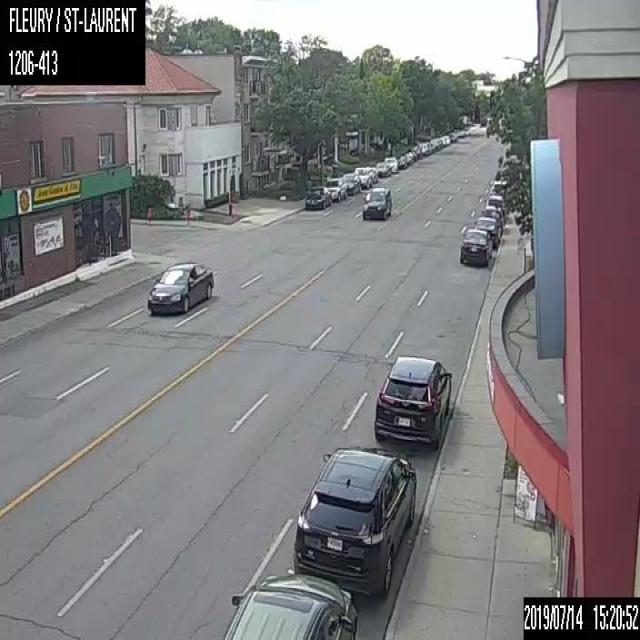vehicle: (292, 446, 416, 596), (223, 572, 359, 639), (374, 355, 451, 448), (146, 260, 213, 315), (459, 229, 492, 267), (362, 186, 391, 218), (474, 216, 499, 247), (322, 176, 347, 201), (304, 186, 330, 208), (340, 172, 360, 195), (352, 166, 372, 188), (374, 161, 390, 177), (383, 156, 398, 172)
